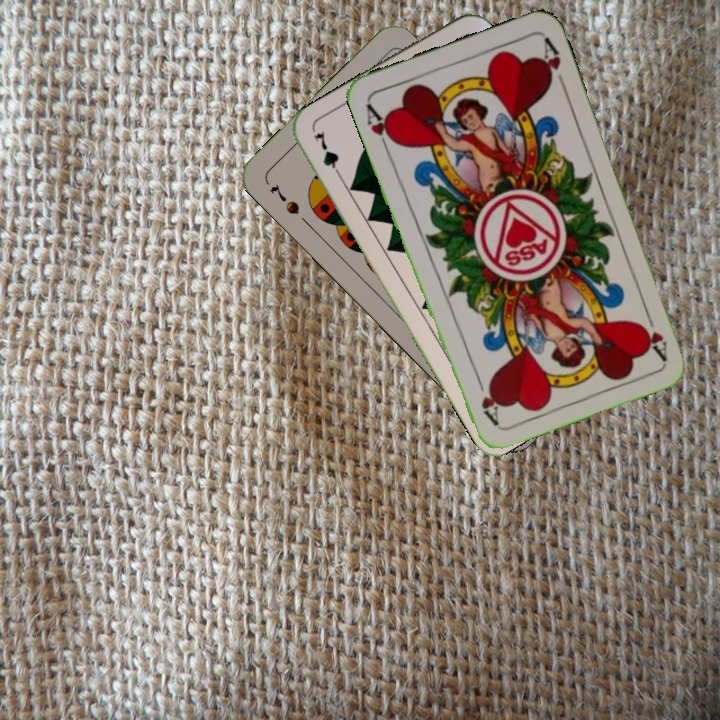G7: (310, 127, 346, 183)
HA: (362, 99, 400, 156), (636, 305, 670, 362)
S7: (266, 179, 302, 217)
